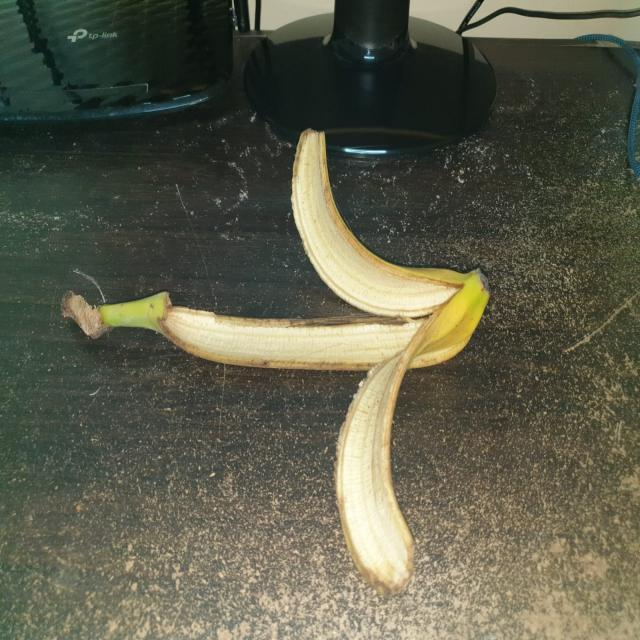banana-peel: (60, 127, 490, 596)
